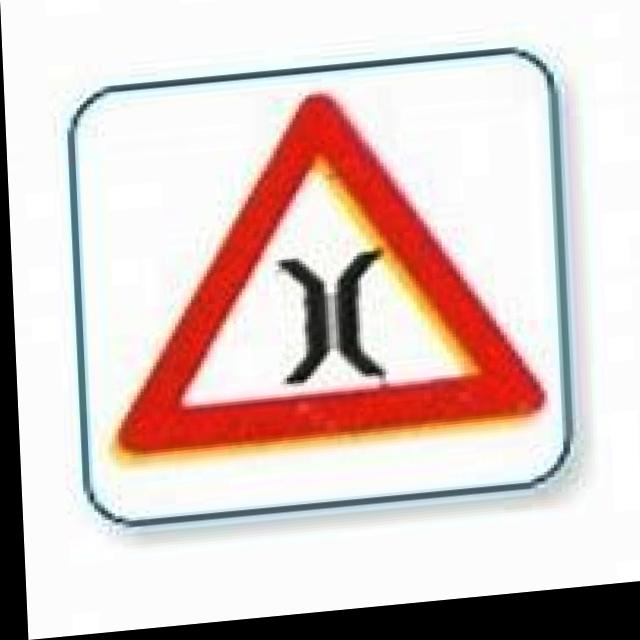NARROW_BRIDGE: (101, 83, 542, 459)
